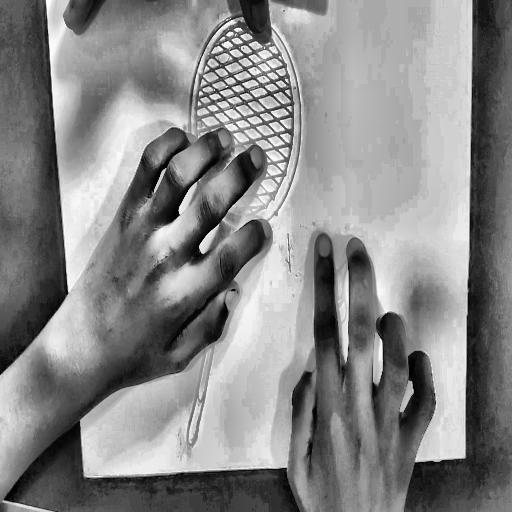badminton: (144, 12, 371, 453)
bottom_left: (81, 468, 90, 483)
bottom_right: (461, 449, 470, 465)
